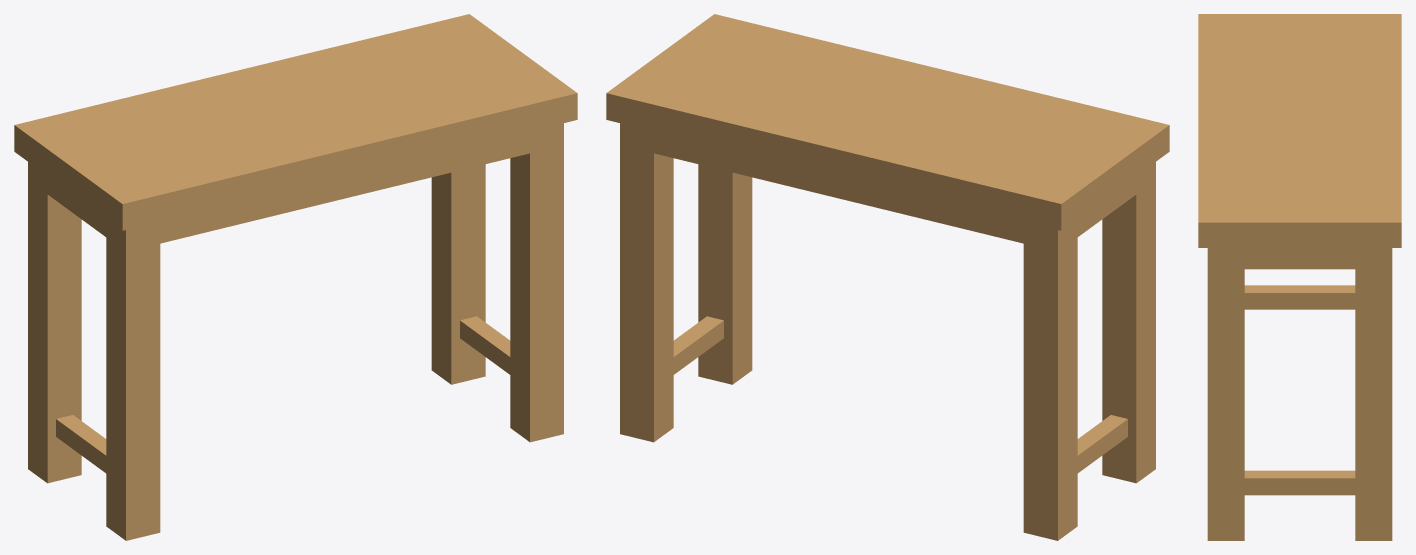
File: sideTable.glb
3 views of the same model, side by side, from view 1: azimuth 30°, elevation 25°; view 2: azimuth 150°, elevation 25°; view 3: azimuth 270°, elevation 25° (orthographic). The views are drawn at different scales.
Size of the model in its own units: 5.34 by 3.84 by 2.2.
